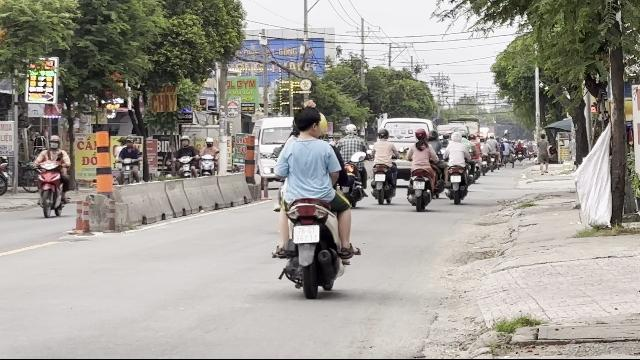licenseplate: (293, 225, 319, 243)
motorcyclist: (269, 101, 361, 299)
nohelmet: (293, 108, 323, 138)
